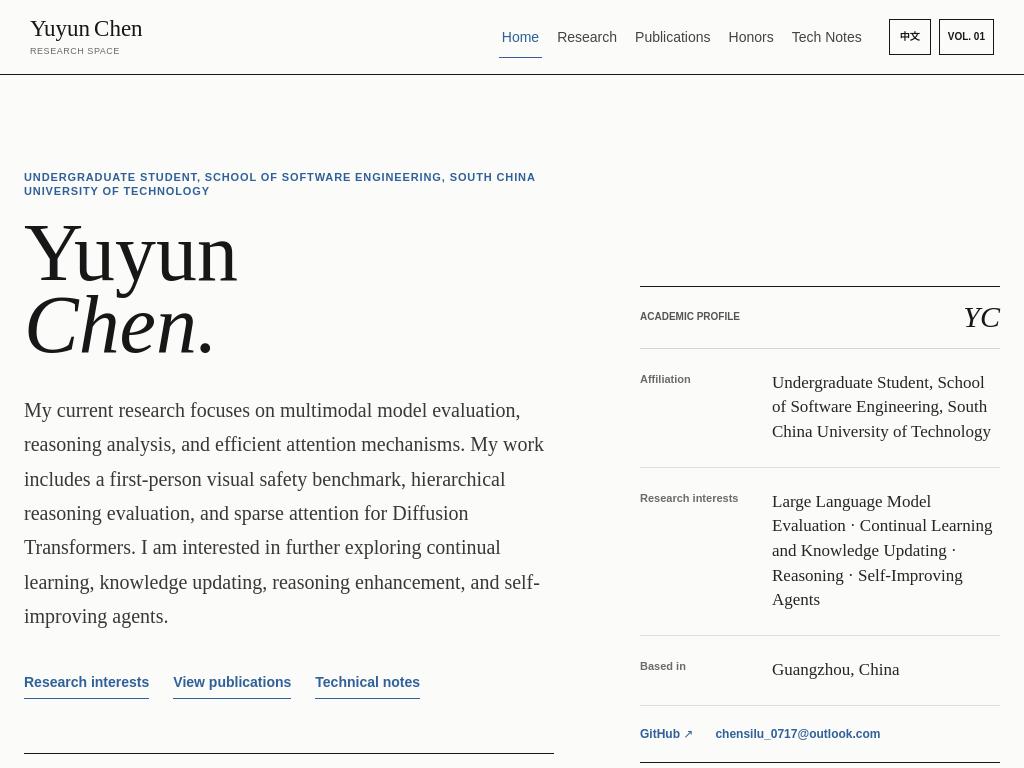
Test: owner session restoration › keeps every girl-band page behind the VOL password gate
Step 1. Click the button with aria-label "Switch to the girl-band edition" → (966,37), box left=939, top=19, right=994, bottom=55
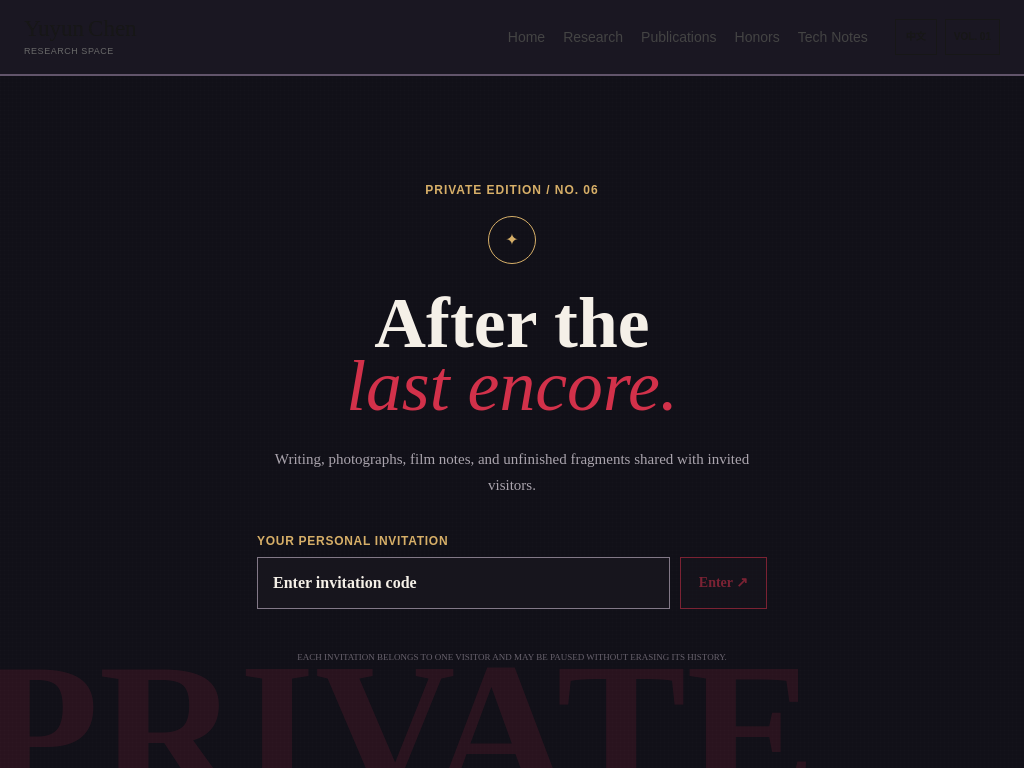
Check: the field with placeholder "Enter invitation code" is shown, box left=257, top=557, right=670, bottom=609
